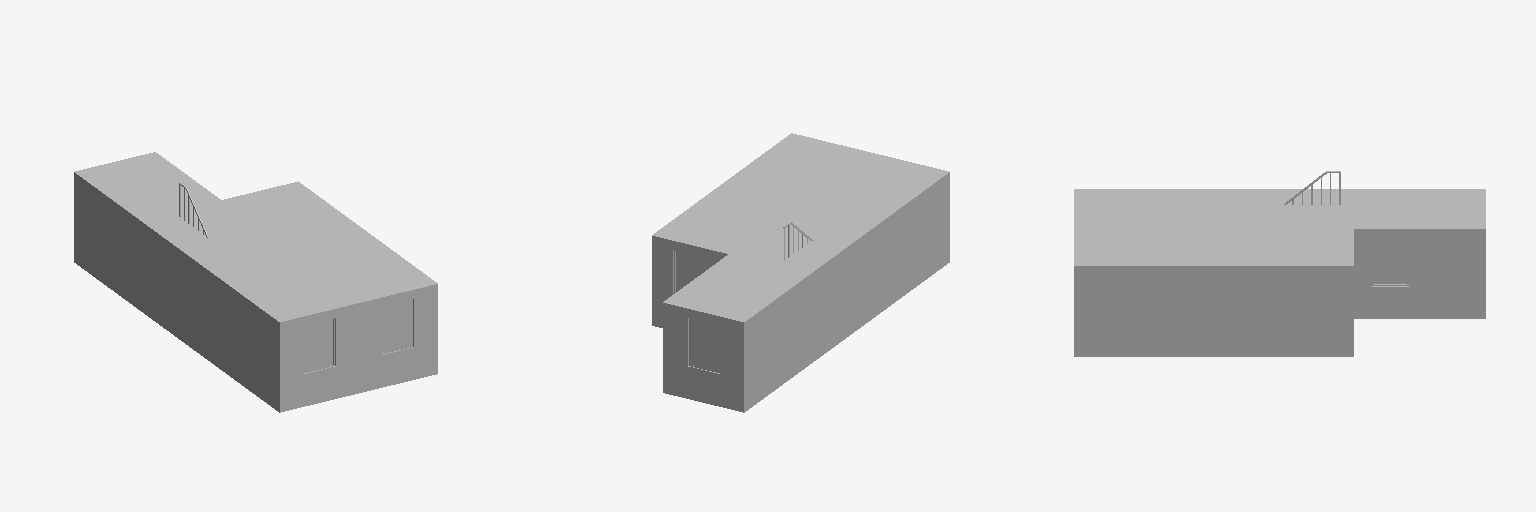
Rendered from Firstfloor.obj.
3 renders of one model, left to right at view 1: azimuth 30°, elevation 25°; view 2: azimuth 150°, elevation 25°; view 3: azimuth 270°, elevation 25°, orthographic.
Parts seen in each view (by area): view 1: wall_3_14, room_4_202, wall_17_98, room_3_200, wall_8_44, wall_18_104, room_6_206, room_1_196, sweethome3d_window_pane_148, sweethome3d_window_pane_151, room_2_198, room_5_204; view 2: room_4_202, wall_17_98, room_3_200, wall_8_44, wall_1_2, wall_18_104, room_6_206, room_1_196, wall_2_8, sweethome3d_window_pane_139, room_2_198, room_5_204 (+1 smaller); view 3: wall_12_68, wall_11_62, room_4_202, room_3_200, wall_13_74, wall_14_80, room_6_206, room_1_196, sweethome3d_window_pane_142, room_2_198, room_5_204.
Boxes of the visible parts, x1,y1,x2,y2 form: wall_3_14: [280, 284, 437, 412]; room_4_202: [212, 233, 432, 320]; wall_17_98: [108, 197, 207, 359]; room_3_200: [191, 183, 362, 256]; wall_8_44: [208, 270, 279, 412]; wall_18_104: [74, 172, 107, 286]; room_6_206: [144, 210, 252, 268]; room_1_196: [78, 154, 185, 194]; sweethome3d_window_pane_148: [305, 320, 332, 371]; sweethome3d_window_pane_151: [383, 300, 410, 351]; room_2_198: [148, 178, 217, 210]; room_5_204: [111, 189, 176, 219]; room_4_202: [724, 135, 945, 222]; wall_17_98: [778, 224, 878, 387]; room_3_200: [657, 187, 827, 260]; wall_8_44: [879, 172, 949, 313]; wall_1_2: [663, 303, 743, 412]; wall_18_104: [744, 298, 777, 412]; room_6_206: [766, 213, 874, 271]; room_1_196: [668, 279, 773, 320]; wall_2_8: [652, 236, 727, 327]; sweethome3d_window_pane_139: [690, 319, 718, 371]; room_2_198: [700, 255, 770, 287]; room_5_204: [744, 264, 808, 295]; wall_12_68: [1074, 266, 1216, 356]; wall_11_62: [1217, 266, 1353, 356]; room_4_202: [1077, 190, 1215, 264]; room_3_200: [1219, 213, 1350, 264]; wall_13_74: [1418, 229, 1485, 318]; wall_14_80: [1354, 229, 1417, 318]; room_6_206: [1219, 190, 1350, 211]; room_1_196: [1420, 190, 1482, 227]; sweethome3d_window_pane_142: [1374, 239, 1406, 283]; room_2_198: [1354, 208, 1416, 227]; room_5_204: [1351, 190, 1416, 205].
Bounding box in the file's own units: 448 × 335 × 1007.